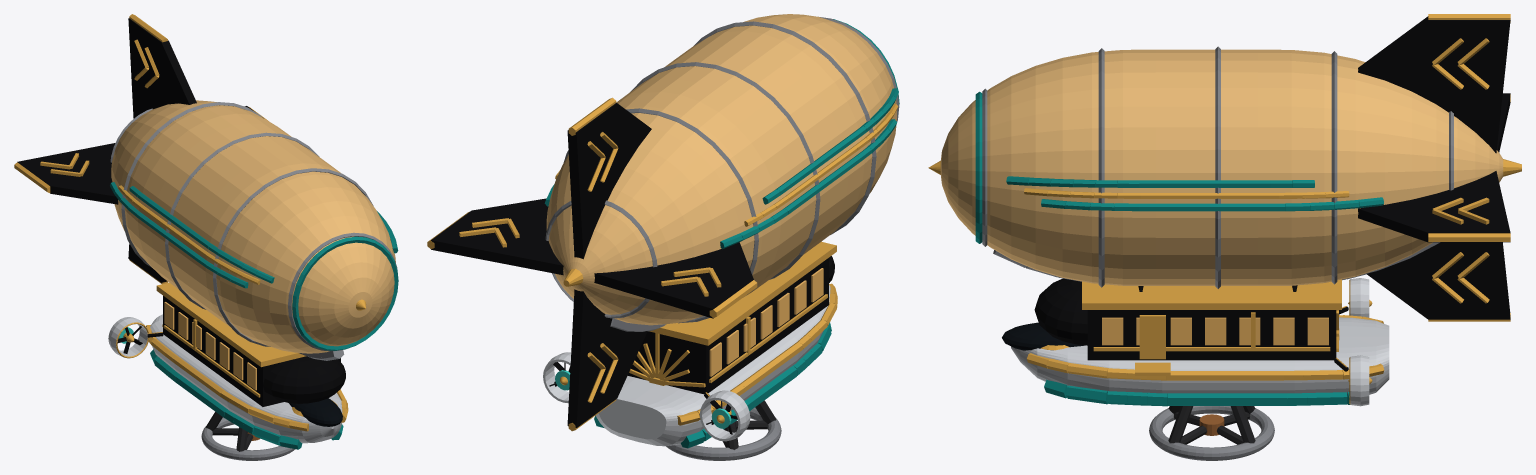
The model's file is launch.obj.
3 renders of one model, left to right at view 1: azimuth 30°, elevation 25°; view 2: azimuth 150°, elevation 25°; view 3: azimuth 270°, elevation 25°, orthographic. The views are drawn at different scales.
Parts seen in each view (by area): view 1: launch; view 2: launch; view 3: launch.
Boxes of the visible parts, x1,y1,x2,y2 form: launch: (14, 14, 398, 460); launch: (427, 14, 899, 460); launch: (928, 14, 1521, 460).
Bounding box in the file's own units: 51.28 × 70.68 × 90.
Materials: 1 (1 with a texture image).
